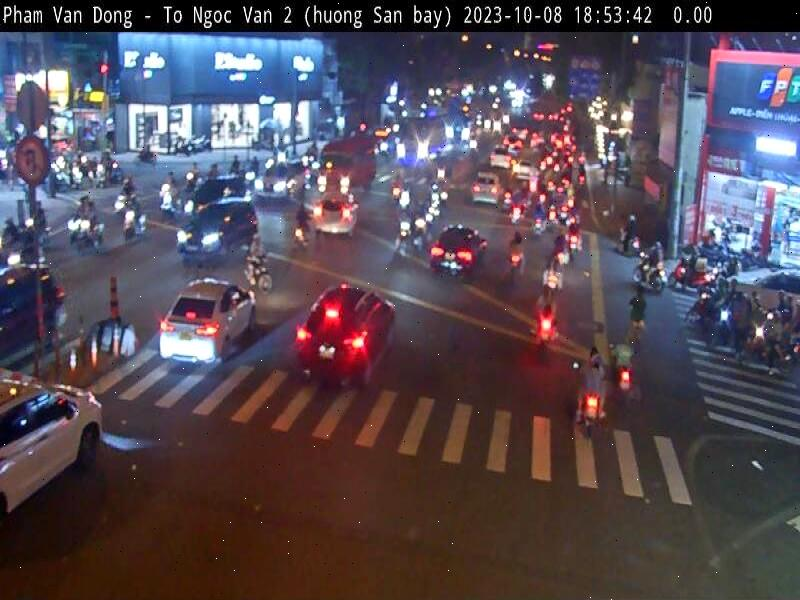car: (0, 367, 105, 520), (293, 282, 397, 386), (158, 277, 256, 367)
